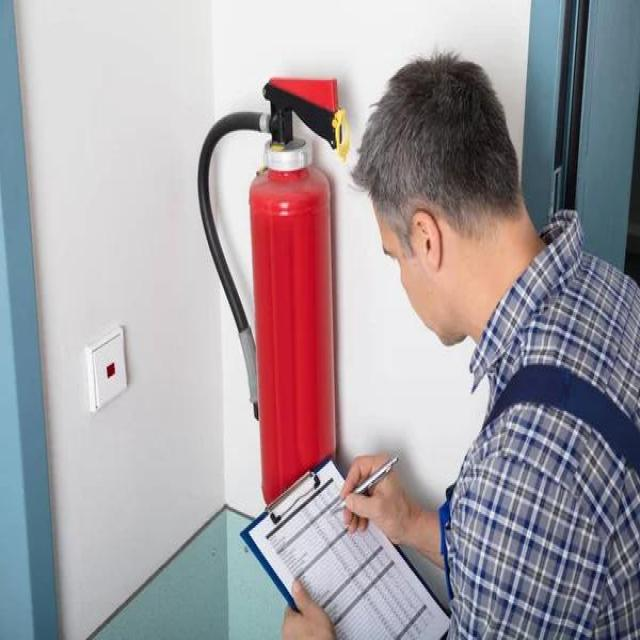fire_extinguisher: (192, 68, 350, 537)
